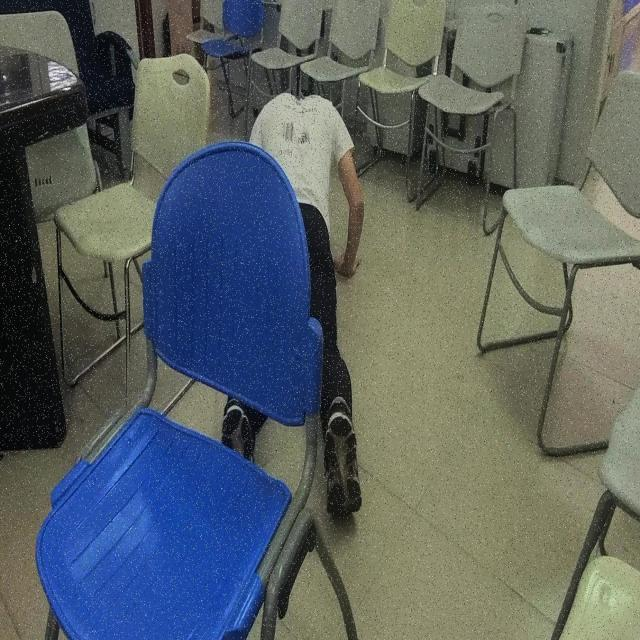fall: (220, 91, 368, 519)
